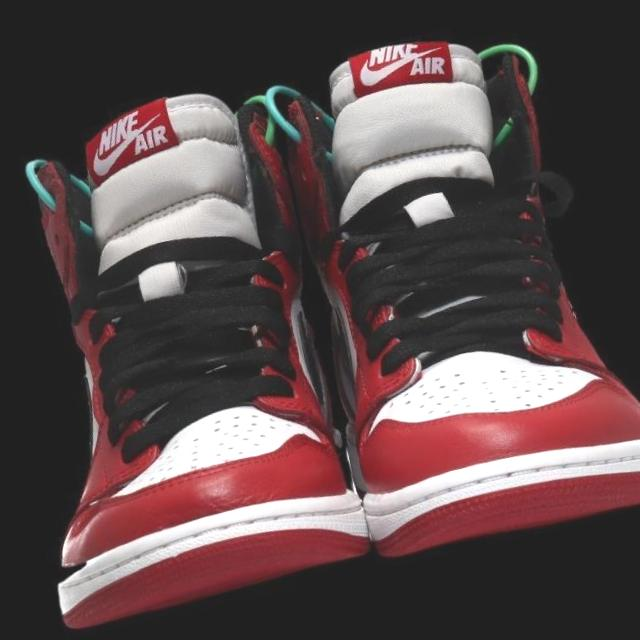nike_original_jordan: (258, 0, 640, 565), (0, 73, 379, 636)
